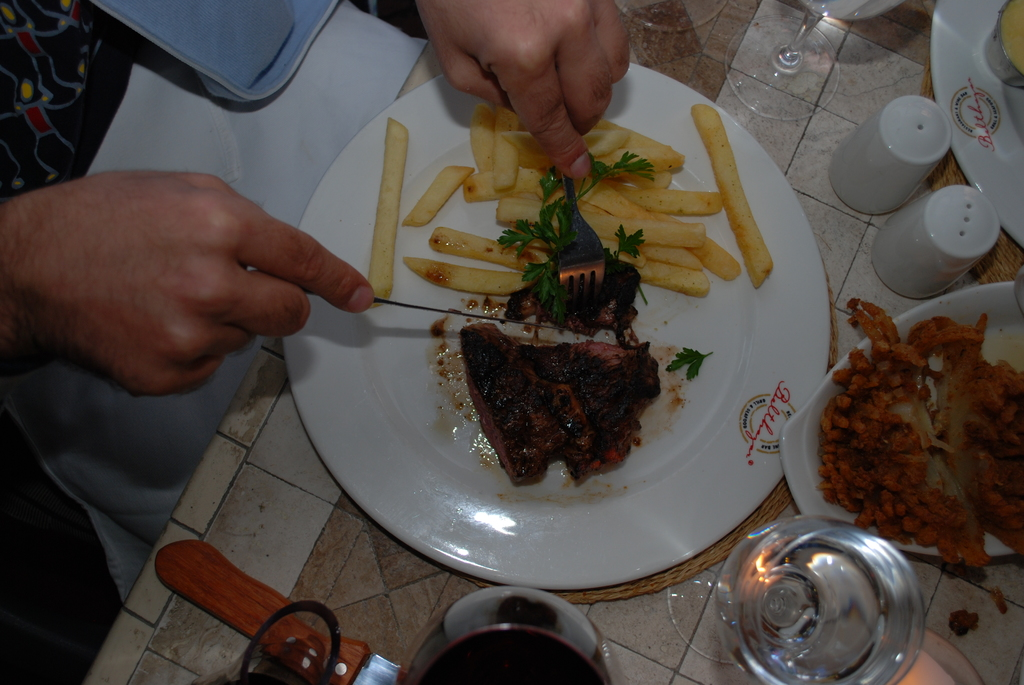French fries: (442, 105, 745, 321), (691, 93, 784, 300), (364, 106, 407, 304), (390, 157, 480, 223), (411, 259, 529, 287), (420, 231, 525, 261)
